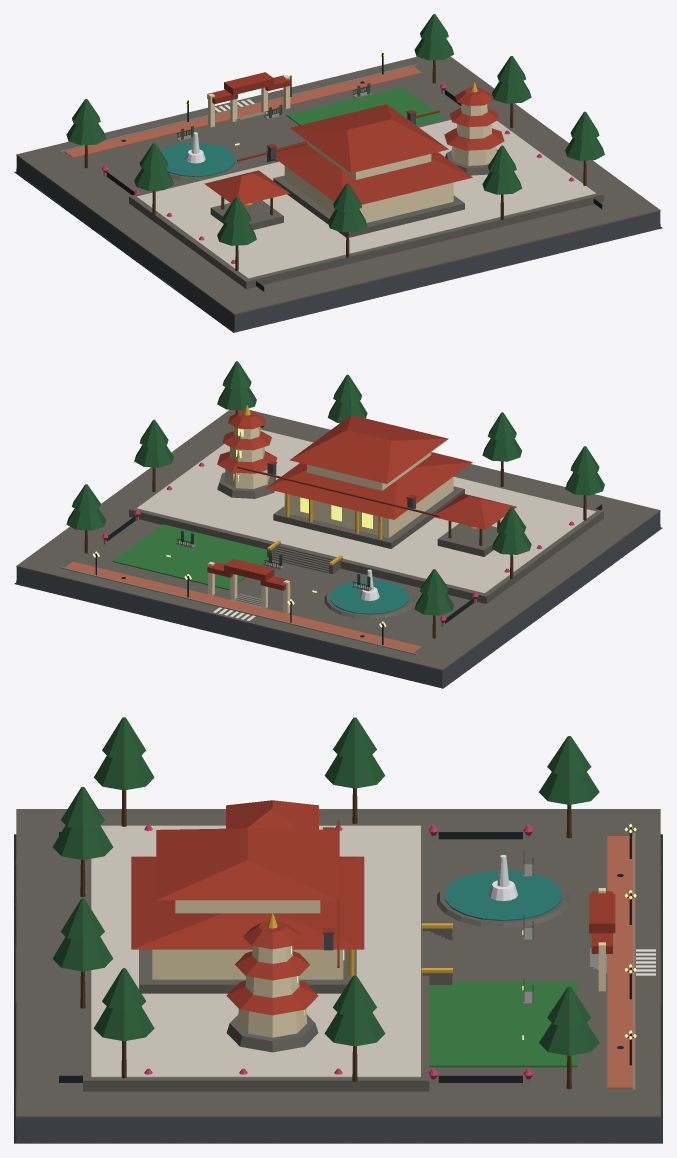
File: lm_34_chua_linh_son.glb
3 views of the same model, one above another, from view 1: azimuth 30°, elevation 25°; view 2: azimuth 150°, elevation 25°; view 3: azimuth 270°, elevation 25° (orthographic). The views are drawn at different scales.
Visible parts, largest first — view 1: Foundation_Plinth_Trim, LinhSon_Courtyard_Paving, Foundation_Skirt, LinhSon_Terrace_Stone_And_Dragon_Steps, LinhSon_Pine_Forest, LinhSon_Main_Hall_Upper_Roof, LinhSon_Temple_Ochre_Walls, LinhSon_Main_Hall_Lower_Roof, LinhSon_Curved_Roofs, Phase2_Interlocking_Brick_Sidewalk, LinhSon_Garden_Lawns, LinhSon_Lotus_Pond_Water (+4 smaller); view 2: Foundation_Plinth_Trim, LinhSon_Courtyard_Paving, Foundation_Skirt, LinhSon_Terrace_Stone_And_Dragon_Steps, LinhSon_Pine_Forest, LinhSon_Main_Hall_Upper_Roof, LinhSon_Temple_Ochre_Walls, LinhSon_Main_Hall_Lower_Roof, LinhSon_Garden_Lawns, LinhSon_Curved_Roofs, Phase2_Interlocking_Brick_Sidewalk, LinhSon_Lotus_Pond_Water (+7 smaller); view 3: Foundation_Plinth_Trim, LinhSon_Courtyard_Paving, LinhSon_Pine_Forest, Foundation_Skirt, LinhSon_Terrace_Stone_And_Dragon_Steps, LinhSon_Main_Hall_Upper_Roof, LinhSon_Garden_Lawns, LinhSon_Main_Hall_Lower_Roof, LinhSon_Temple_Ochre_Walls, Phase2_Interlocking_Brick_Sidewalk, LinhSon_Curved_Roofs, LinhSon_Lotus_Pond_Water (+6 smaller).
Part boxes in pixels (x1,y1,x2,y2): Foundation_Plinth_Trim: [16, 56, 660, 314]; LinhSon_Courtyard_Paving: [136, 120, 595, 278]; Foundation_Skirt: [14, 156, 662, 332]; LinhSon_Terrace_Stone_And_Dragon_Steps: [129, 117, 603, 289]; LinhSon_Pine_Forest: [66, 14, 604, 245]; LinhSon_Main_Hall_Upper_Roof: [290, 104, 448, 173]; LinhSon_Temple_Ochre_Walls: [208, 75, 496, 222]; LinhSon_Main_Hall_Lower_Roof: [265, 141, 472, 204]; LinhSon_Curved_Roofs: [207, 72, 504, 150]; Phase2_Interlocking_Brick_Sidewalk: [64, 66, 421, 158]; LinhSon_Garden_Lawns: [286, 86, 445, 125]; LinhSon_Lotus_Pond_Water: [160, 142, 235, 176]; Foundation_Plinth_Trim: [16, 410, 660, 670]; LinhSon_Courtyard_Paving: [136, 429, 596, 593]; Foundation_Skirt: [14, 512, 662, 688]; LinhSon_Terrace_Stone_And_Dragon_Steps: [129, 427, 603, 619]; LinhSon_Pine_Forest: [66, 361, 604, 615]; LinhSon_Main_Hall_Upper_Roof: [290, 415, 448, 483]; LinhSon_Temple_Ochre_Walls: [208, 427, 453, 613]; LinhSon_Main_Hall_Lower_Roof: [265, 452, 472, 519]; LinhSon_Garden_Lawns: [112, 524, 268, 589]; LinhSon_Curved_Roofs: [207, 410, 290, 590]; Phase2_Interlocking_Brick_Sidewalk: [65, 561, 421, 652]; LinhSon_Lotus_Pond_Water: [330, 580, 409, 614]; Foundation_Plinth_Trim: [16, 809, 660, 1117]; LinhSon_Courtyard_Paving: [91, 825, 420, 1077]; LinhSon_Pine_Forest: [52, 717, 599, 1055]; Foundation_Skirt: [14, 834, 662, 1143]; LinhSon_Terrace_Stone_And_Dragon_Steps: [83, 823, 569, 1091]; LinhSon_Main_Hall_Upper_Roof: [156, 828, 339, 900]; LinhSon_Garden_Lawns: [429, 982, 577, 1067]; LinhSon_Main_Hall_Lower_Roof: [131, 856, 364, 949]; LinhSon_Temple_Ochre_Walls: [152, 888, 605, 1037]; Phase2_Interlocking_Brick_Sidewalk: [607, 836, 632, 1088]; LinhSon_Curved_Roofs: [226, 891, 615, 1015]; LinhSon_Lotus_Pond_Water: [445, 870, 561, 921].
Size of the model in its own units: 88.82 by 21 by 78.73.
